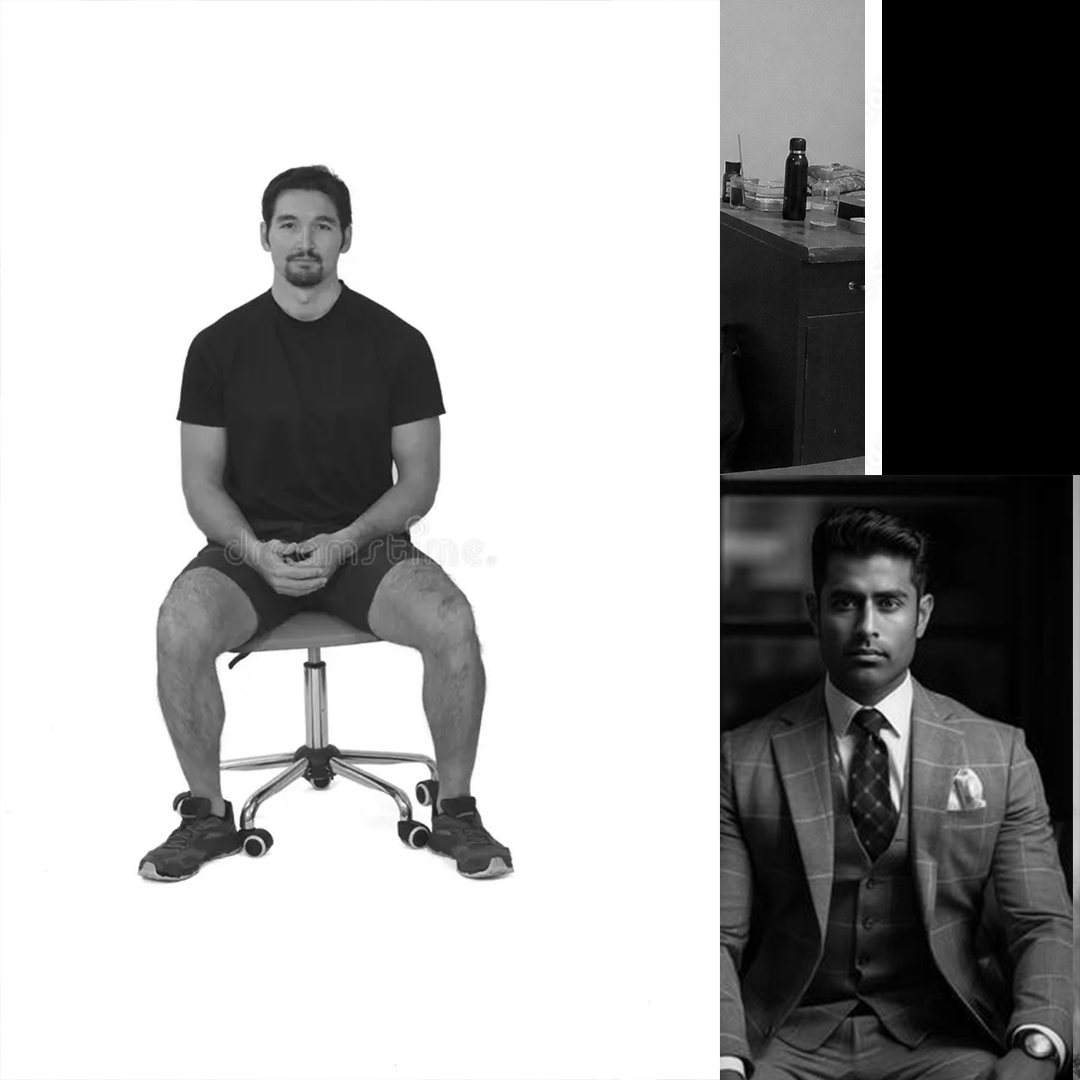Focused: (786, 515, 951, 706), (221, 142, 384, 318)
